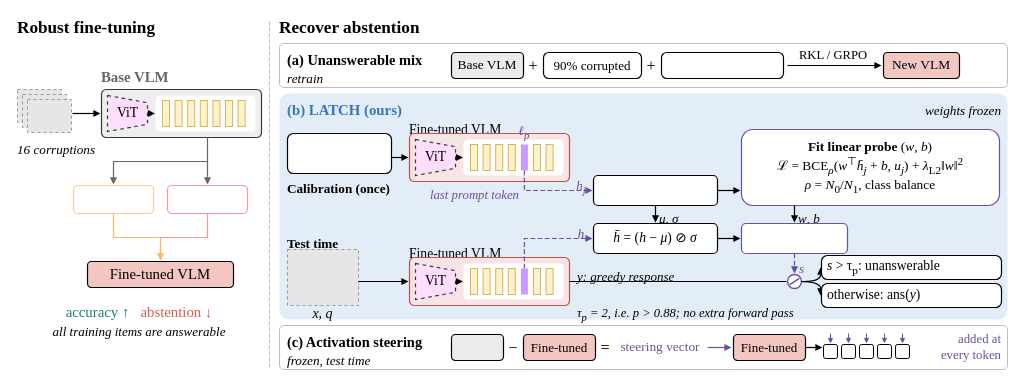
Image size: 1025x388. Some labels were removed from this diagram. Grey dashed boxes stand in for pictures. The centre of each missing label's shape, as x and y in pixels:
"10% unanswerable" belongs at point 722,65.
"Base" belongs at point 477,347.
"GRPO" belongs at point 207,199.
"h̄ j = ( h j − μ ) ⊘ σ" belongs at point 655,190.
"RKL" belongs at point 113,199.
"s = w ⊤ h̄ + b" belongs at point 794,238.
"𝒞 = {( x j , q j , u j )}" belongs at point 339,153.
